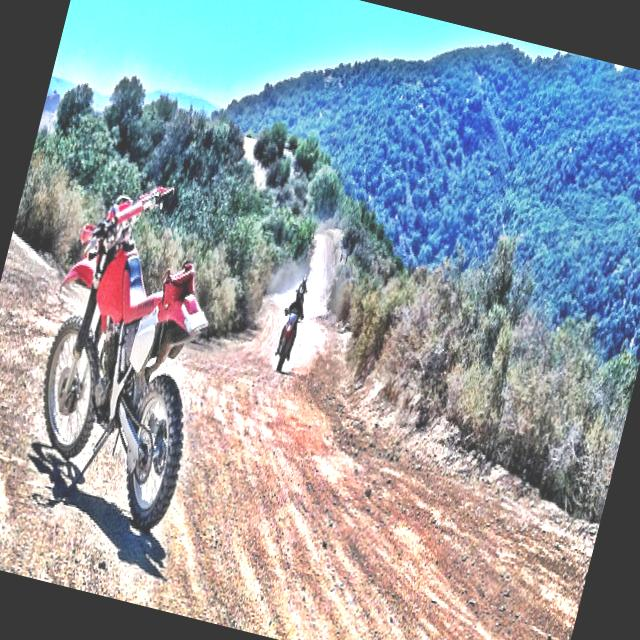Vehicle: (6, 162, 248, 536), (270, 307, 304, 373)
